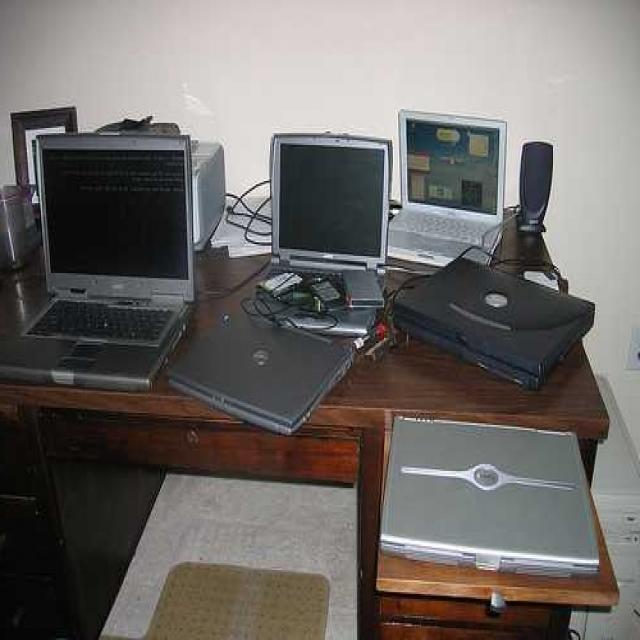laptop: (7, 132, 198, 380), (394, 126, 505, 255), (198, 325, 322, 423)
